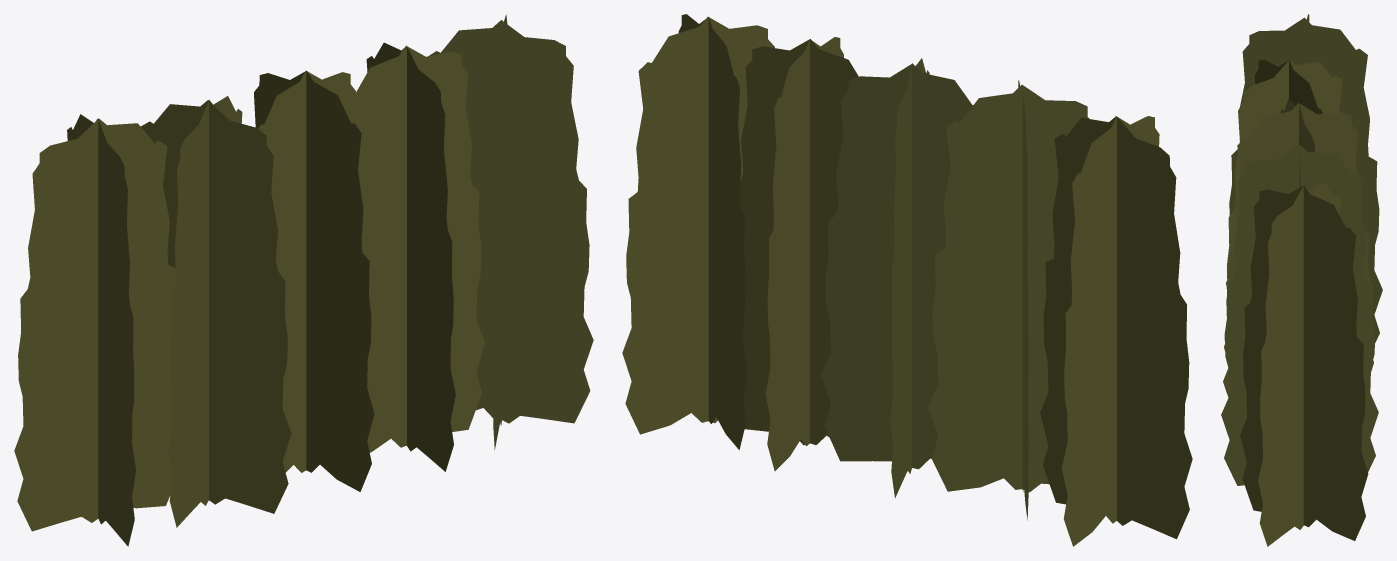
File: Tree19.fbx
The picture shows the model from 3 angles, left to right: view 1: azimuth 30°, elevation 25°; view 2: azimuth 150°, elevation 25°; view 3: azimuth 270°, elevation 25°; orthographic projection. The views are drawn at different scales.
Visible parts, largest first — view 1: Flat_half_tree.019; view 2: Flat_half_tree.019; view 3: Flat_half_tree.019.
Part boxes in pixels (x1,y1,x2,y2): Flat_half_tree.019: (14,14,593,546); Flat_half_tree.019: (622,14,1192,546); Flat_half_tree.019: (1221,14,1382,546).
Size of the model in its own units: 2.45 by 1.72 by 0.7365.
